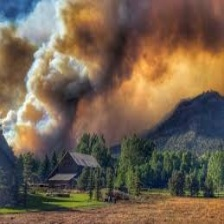smoke: (1, 3, 153, 154)
